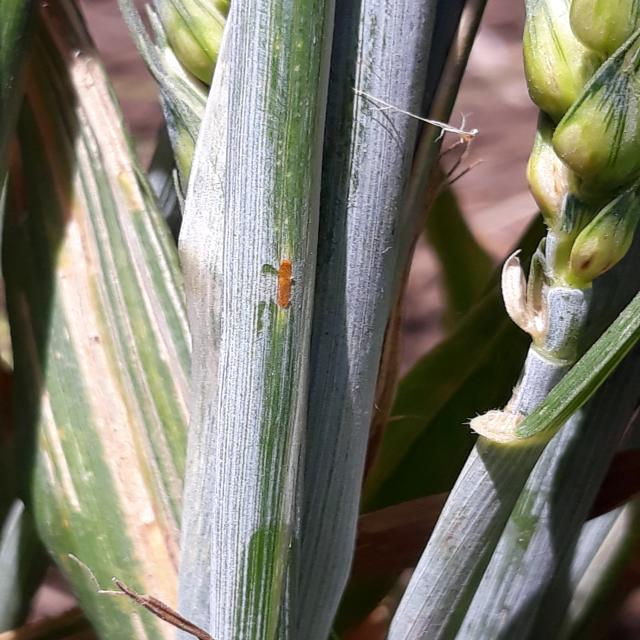black_stem_rust: (23, 124, 351, 637)
